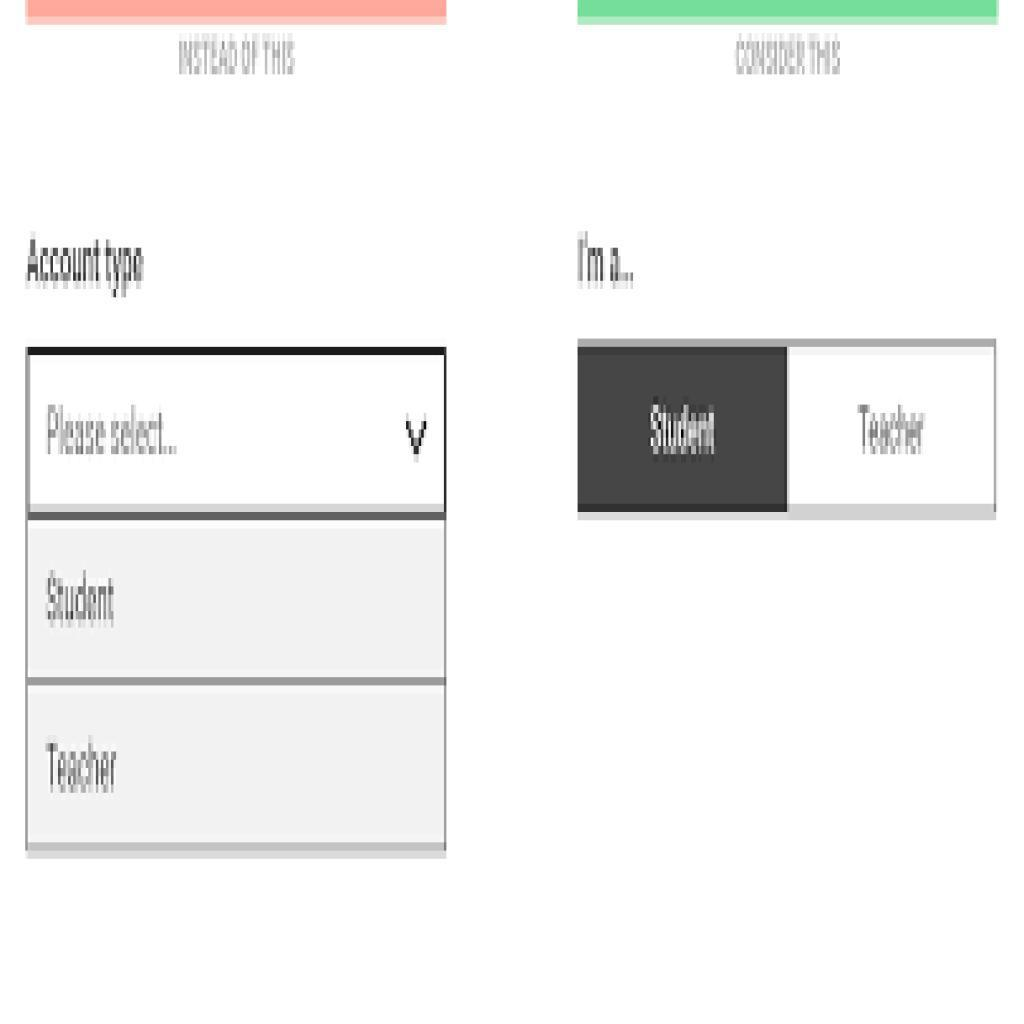button: (577, 340, 791, 518)
dropdown: (25, 347, 448, 522)
label: (848, 390, 941, 467)
